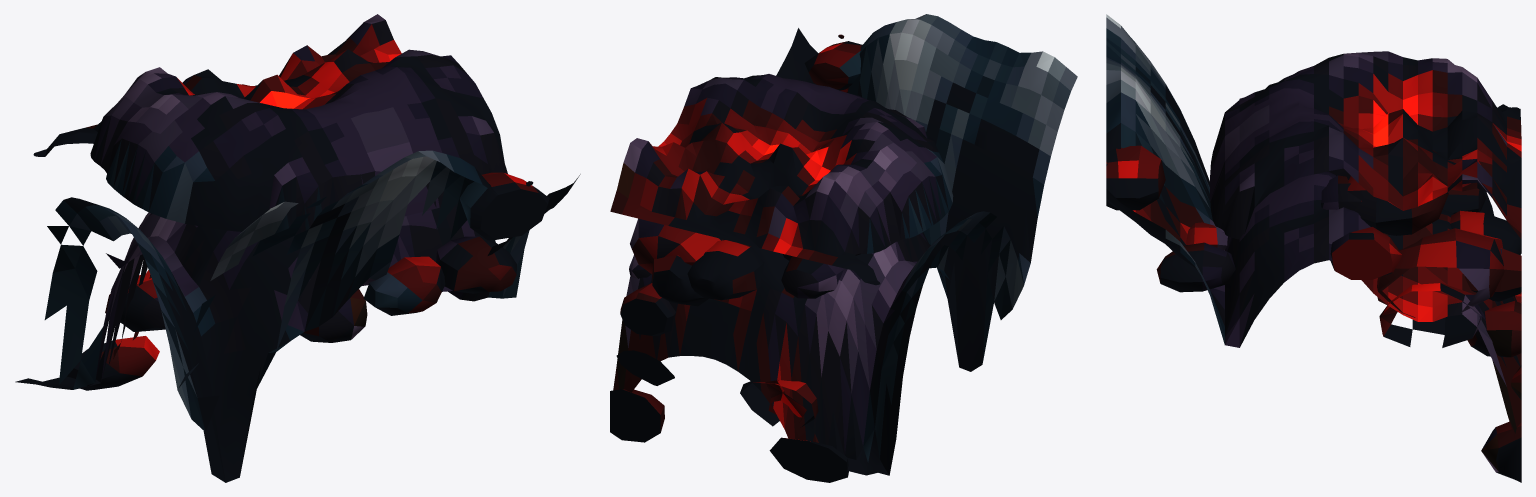
File: gyges_maw_91.glb
3 views of the same model, side by side, from view 1: azimuth 30°, elevation 25°; view 2: azimuth 150°, elevation 25°; view 3: azimuth 270°, elevation 25° (orthographic). The views are drawn at different scales.
Visible parts, largest first — view 1: gyges_maw_91_body, gyges_maw_91_spine3, gyges_maw_91_gore55, gyges_maw_91_gore57, gyges_maw_91_gore56, gyges_maw_91_gore15, gyges_maw_91_gore17, gyges_maw_91_gore7; view 2: gyges_maw_91_body, gyges_maw_91_spine3, gyges_maw_91_gore48, gyges_maw_91_gore52, gyges_maw_91_gore15, gyges_maw_91_gore17, gyges_maw_91_gore12, gyges_maw_91_gore55, gyges_maw_91_gore50, gyges_maw_91_gore47, gyges_maw_91_gore7, gyges_maw_91_gore5 (+1 smaller); view 3: gyges_maw_91_spine3, gyges_maw_91_body, gyges_maw_91_gore52, gyges_maw_91_gore55, gyges_maw_91_gore49, gyges_maw_91_gore57, gyges_maw_91_gore45, gyges_maw_91_gore46, gyges_maw_91_gore12, gyges_maw_91_gore17, gyges_maw_91_gore48, gyges_maw_91_gore47 (+3 smaller).
Part boxes in pixels (<box>): gyges_maw_91_body: <box>15,150,580,482</box>; gyges_maw_91_spine3: <box>33,14,507,235</box>; gyges_maw_91_gore55: <box>459,172,549,240</box>; gyges_maw_91_gore57: <box>436,236,516,293</box>; gyges_maw_91_gore56: <box>363,256,445,315</box>; gyges_maw_91_gore15: <box>67,336,159,390</box>; gyges_maw_91_gore17: <box>300,289,367,342</box>; gyges_maw_91_gore7: <box>105,272,165,331</box>; gyges_maw_91_body: <box>613,14,1077,475</box>; gyges_maw_91_spine3: <box>610,74,953,285</box>; gyges_maw_91_gore48: <box>687,240,764,300</box>; gyges_maw_91_gore52: <box>630,218,722,274</box>; gyges_maw_91_gore15: <box>769,437,848,482</box>; gyges_maw_91_gore17: <box>610,389,664,442</box>; gyges_maw_91_gore12: <box>620,283,675,335</box>; gyges_maw_91_gore55: <box>804,41,862,90</box>; gyges_maw_91_gore50: <box>781,256,843,298</box>; gyges_maw_91_gore47: <box>652,255,708,306</box>; gyges_maw_91_gore7: <box>740,380,818,427</box>; gyges_maw_91_gore5: <box>616,350,674,385</box>; gyges_maw_91_spine3: <box>1210,51,1521,239</box>; gyges_maw_91_body: <box>1106,14,1521,439</box>; gyges_maw_91_gore52: <box>1377,228,1504,317</box>; gyges_maw_91_gore55: <box>1106,145,1165,210</box>; gyges_maw_91_gore49: <box>1330,227,1401,279</box>; gyges_maw_91_gore57: <box>1156,242,1235,292</box>; gyges_maw_91_gore45: <box>1379,283,1482,347</box>; gyges_maw_91_gore46: <box>1347,176,1448,235</box>; gyges_maw_91_gore12: <box>1467,300,1521,357</box>; gyges_maw_91_gore17: <box>1481,421,1521,482</box>; gyges_maw_91_gore48: <box>1450,210,1521,255</box>; gyges_maw_91_gore47: <box>1465,248,1521,301</box>.
Bounding box in the file's own units: 23.98 × 26.02 × 27.98.
